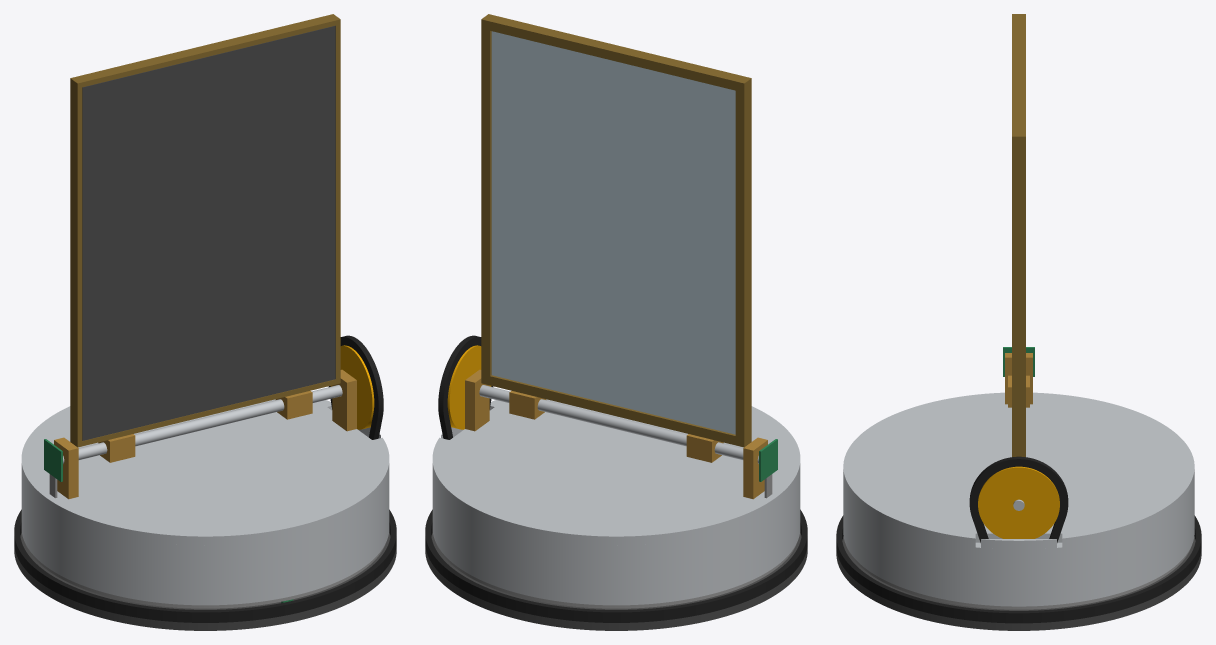
Rendered from hinge-mirror-v1-exposed-assembly.glb.
3 views of the same model, side by side, from view 1: azimuth 30°, elevation 25°; view 2: azimuth 150°, elevation 25°; view 3: azimuth 270°, elevation 25° (orthographic). The views are drawn at different scales.
Visible parts, largest first — view 1: mirror_backing_4mm, drum_top_plate, drum_wall, mirror_frame, base_cup_wall, base_floor_plate_steel_6mm, hinge_shaft_8mm, drum_floor, hinge_sprocket_32T, turntable_bearing_ring, tilt_chain_ANSI25_42links, hinge_block_right (+4 smaller); view 2: mirror_glass_4mm, drum_top_plate, drum_wall, mirror_frame, base_cup_wall, base_floor_plate_steel_6mm, hinge_shaft_8mm, drum_floor, hinge_sprocket_32T, turntable_bearing_ring, tilt_chain_ANSI25_42links, hinge_block_right (+4 smaller); view 3: drum_top_plate, drum_wall, mirror_frame, base_cup_wall, hinge_sprocket_32T, base_floor_plate_steel_6mm, tilt_chain_ANSI25_42links, drum_floor, turntable_bearing_ring.
Boxes of the visible parts, box(x1,y1,x2,y2) form: mirror_backing_4mm: box(82, 25, 335, 440); drum_top_plate: box(21, 399, 389, 545); drum_wall: box(21, 429, 389, 601); mirror_frame: box(70, 14, 340, 447); base_cup_wall: box(14, 509, 396, 622); base_floor_plate_steel_6mm: box(14, 532, 396, 630); hinge_shaft_8mm: box(63, 385, 342, 463); drum_floor: box(21, 528, 389, 605); hinge_sprocket_32T: box(330, 345, 374, 429); turntable_bearing_ring: box(25, 543, 385, 608); tilt_chain_ANSI25_42links: box(328, 335, 383, 439); hinge_block_right: box(332, 369, 356, 431); mirror_glass_4mm: box(491, 31, 735, 434); drum_top_plate: box(432, 399, 800, 545); drum_wall: box(432, 429, 800, 601); mirror_frame: box(481, 14, 751, 447); base_cup_wall: box(425, 509, 807, 622); base_floor_plate_steel_6mm: box(425, 532, 807, 630); hinge_shaft_8mm: box(479, 385, 758, 463); drum_floor: box(432, 528, 800, 605); hinge_sprocket_32T: box(447, 345, 491, 429); turntable_bearing_ring: box(436, 543, 796, 608); tilt_chain_ANSI25_42links: box(438, 335, 493, 439); hinge_block_right: box(465, 369, 489, 431); drum_top_plate: box(843, 392, 1194, 549); drum_wall: box(843, 478, 1194, 602); mirror_frame: box(1012, 14, 1025, 456); base_cup_wall: box(836, 515, 1201, 623); hinge_sprocket_32T: box(978, 466, 1059, 538); base_floor_plate_steel_6mm: box(836, 536, 1201, 630); tilt_chain_ANSI25_42links: box(969, 456, 1068, 542); drum_floor: box(843, 531, 1194, 606); turntable_bearing_ring: box(847, 548, 1190, 609).
Bounding box in the file's own units: 262 × 379 × 262.
